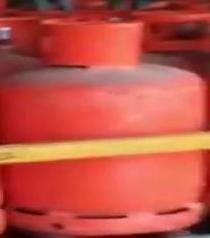cylinder: (1, 1, 210, 238)
